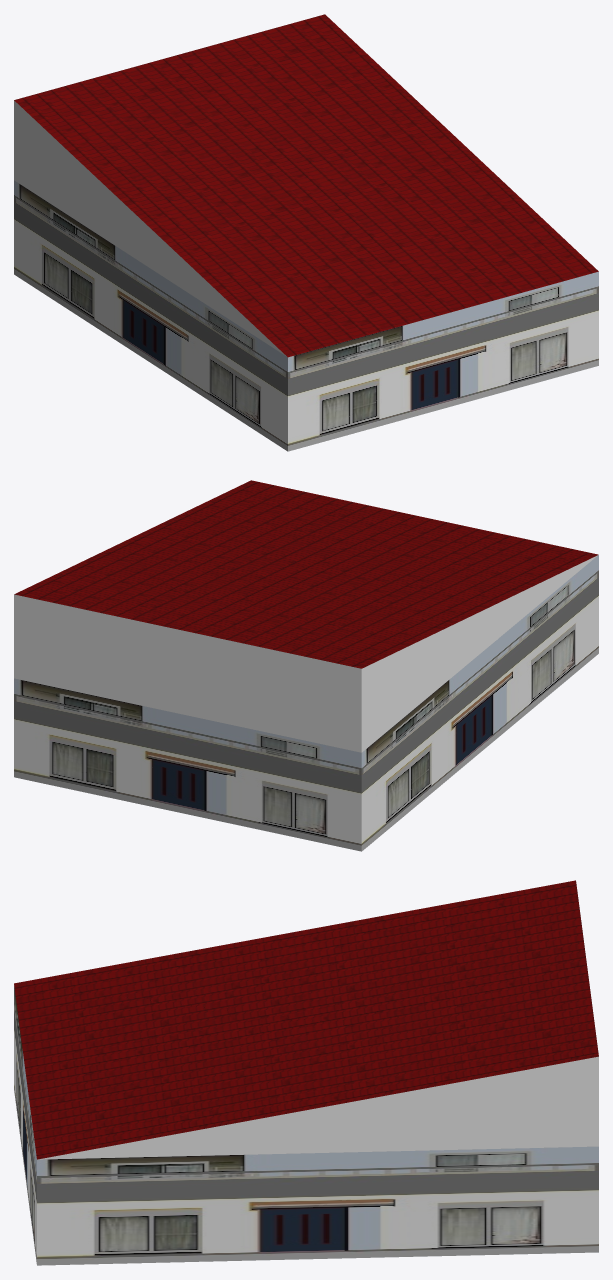
3 views of the same model, one above another, from view 1: azimuth 30°, elevation 25°; view 2: azimuth 150°, elevation 25°; view 3: azimuth 270°, elevation 25° (orthographic). The views are drawn at different scales.
Visible parts, largest first — view 1: CityEngineMaterial_17_m, CityEngineMaterial_7_m, CityEngineMaterial_3_m; view 2: CityEngineMaterial_7_m, CityEngineMaterial_17_m, CityEngineMaterial_3_m; view 3: CityEngineMaterial_17_m, CityEngineMaterial_7_m, CityEngineMaterial_3_m.
Boxes of the visible parts, x1,y1,x2,y2 form: CityEngineMaterial_17_m: [14, 14, 598, 357]; CityEngineMaterial_7_m: [14, 180, 598, 451]; CityEngineMaterial_3_m: [14, 100, 286, 356]; CityEngineMaterial_7_m: [14, 555, 598, 851]; CityEngineMaterial_17_m: [14, 480, 598, 668]; CityEngineMaterial_3_m: [14, 555, 597, 752]; CityEngineMaterial_17_m: [14, 880, 598, 1159]; CityEngineMaterial_7_m: [14, 985, 598, 1265]; CityEngineMaterial_3_m: [38, 1056, 598, 1159].
Size of the model in its own units: 23.71 by 11.44 by 30.96.
